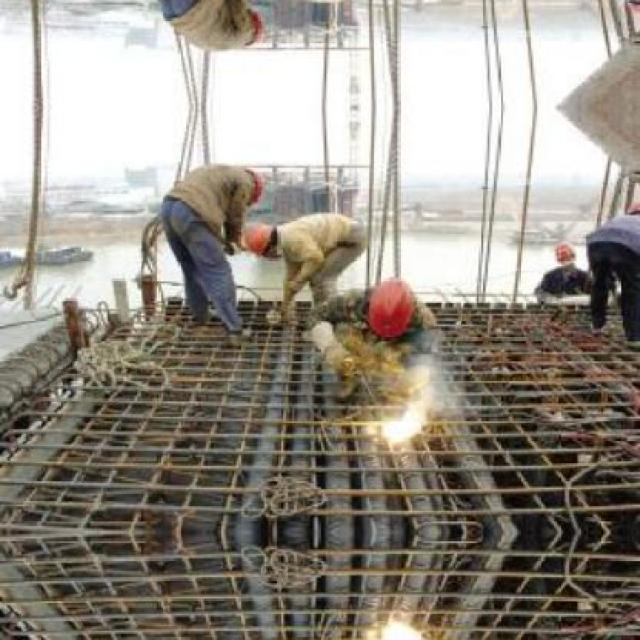helmet: (360, 270, 422, 342), (240, 219, 289, 258), (234, 163, 268, 203), (234, 9, 268, 49), (549, 240, 580, 271)
